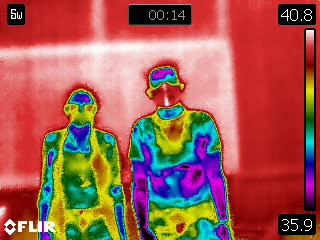human: (130, 58, 235, 240), (37, 83, 129, 240)
